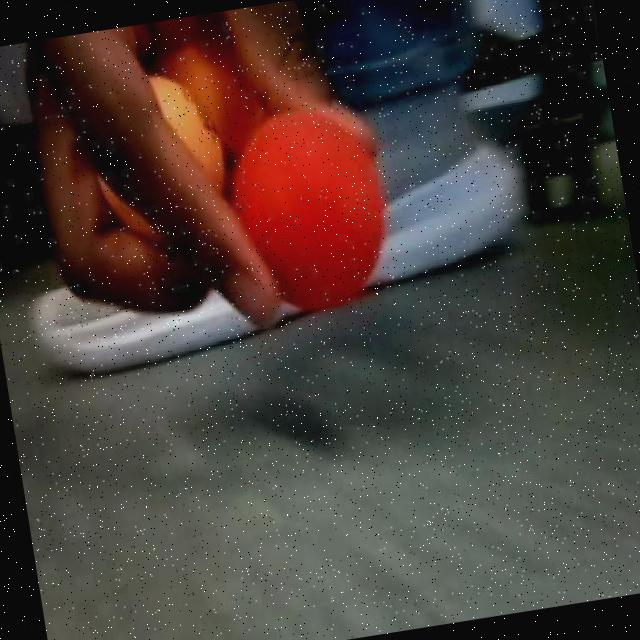ping-pong-ball: (212, 95, 404, 330)
